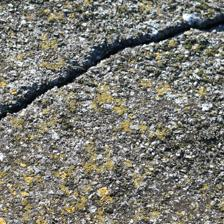Crack: (2, 8, 218, 111)
